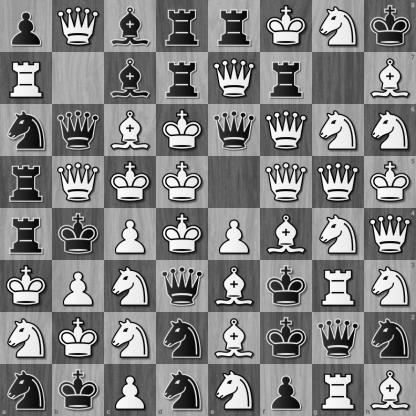B: (364, 52, 416, 104), (364, 364, 416, 416), (105, 105, 156, 156), (209, 261, 260, 312), (209, 313, 260, 364), (261, 209, 312, 260)
K: (364, 156, 416, 209), (1, 261, 52, 312), (53, 313, 104, 364), (105, 157, 156, 208), (157, 105, 208, 156), (157, 157, 208, 208), (157, 209, 208, 260), (261, 1, 312, 52)
N: (364, 104, 416, 156), (364, 260, 416, 312), (209, 364, 260, 416), (1, 313, 52, 364), (105, 261, 156, 312), (105, 313, 156, 364), (313, 1, 364, 52), (313, 105, 364, 156), (313, 209, 364, 260)
P: (104, 364, 156, 416), (53, 261, 104, 312), (105, 209, 156, 260), (209, 209, 260, 260)
Q: (364, 209, 416, 260), (53, 1, 104, 52), (53, 157, 104, 208), (209, 53, 260, 104), (261, 105, 312, 156), (261, 157, 312, 208), (313, 157, 364, 208)
R: (312, 364, 364, 416), (1, 53, 52, 104), (313, 261, 364, 312)
b: (105, 1, 156, 52), (105, 53, 156, 104)
board: (0, 0, 415, 415)
k: (52, 364, 104, 416), (364, 0, 416, 52), (53, 209, 104, 260), (261, 261, 312, 312), (261, 313, 312, 364)
n: (156, 364, 209, 416), (0, 364, 52, 416), (364, 312, 416, 364), (1, 105, 52, 156), (157, 313, 208, 364)
p: (260, 364, 312, 416), (1, 1, 52, 52)
q: (53, 105, 104, 156), (157, 261, 208, 312), (209, 105, 260, 156), (313, 313, 364, 364)
r: (1, 157, 52, 208), (1, 209, 52, 260), (157, 1, 208, 52), (157, 53, 208, 104), (209, 1, 260, 52), (261, 53, 312, 104)
